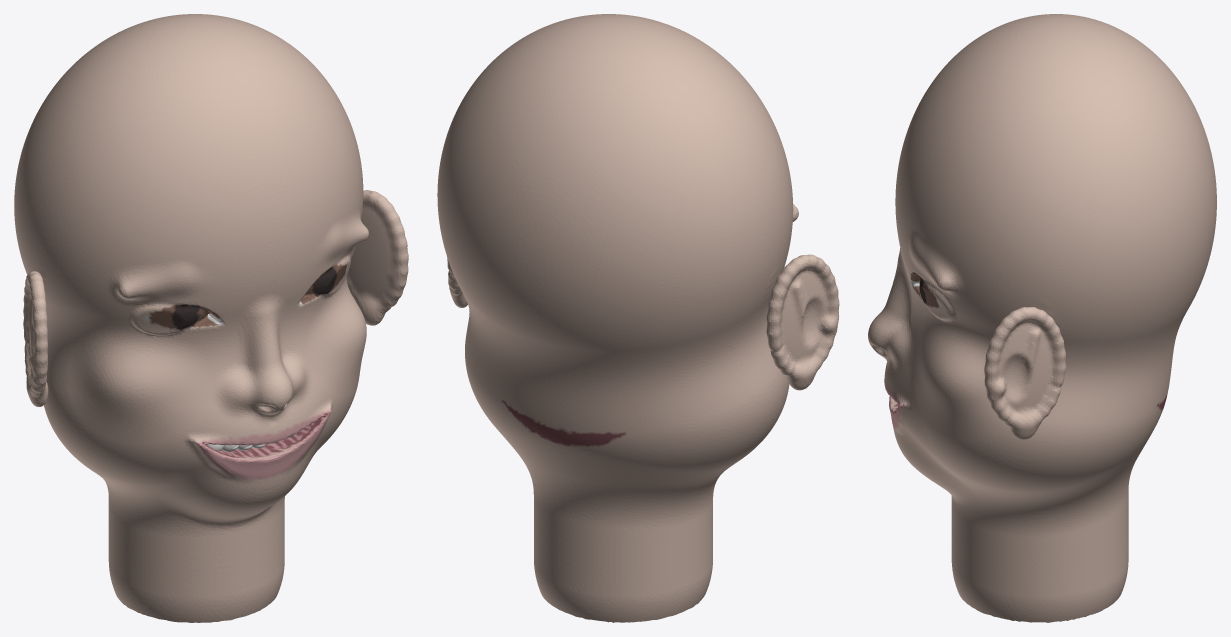
The model's file is karma_face_stage1_D_smile_EXPERIMENT.glb.
3 views of the same model, side by side, from view 1: azimuth 30°, elevation 25°; view 2: azimuth 150°, elevation 25°; view 3: azimuth 270°, elevation 25° (orthographic).
Visible parts, largest first — view 1: head; view 2: head; view 3: head.
Part boxes in pixels (x1,y1,x2,y2): head: (14,14,408,622); head: (437,14,839,622); head: (868,14,1216,622).
Size of the model in its own units: 2.7 by 3.83 by 2.17.
